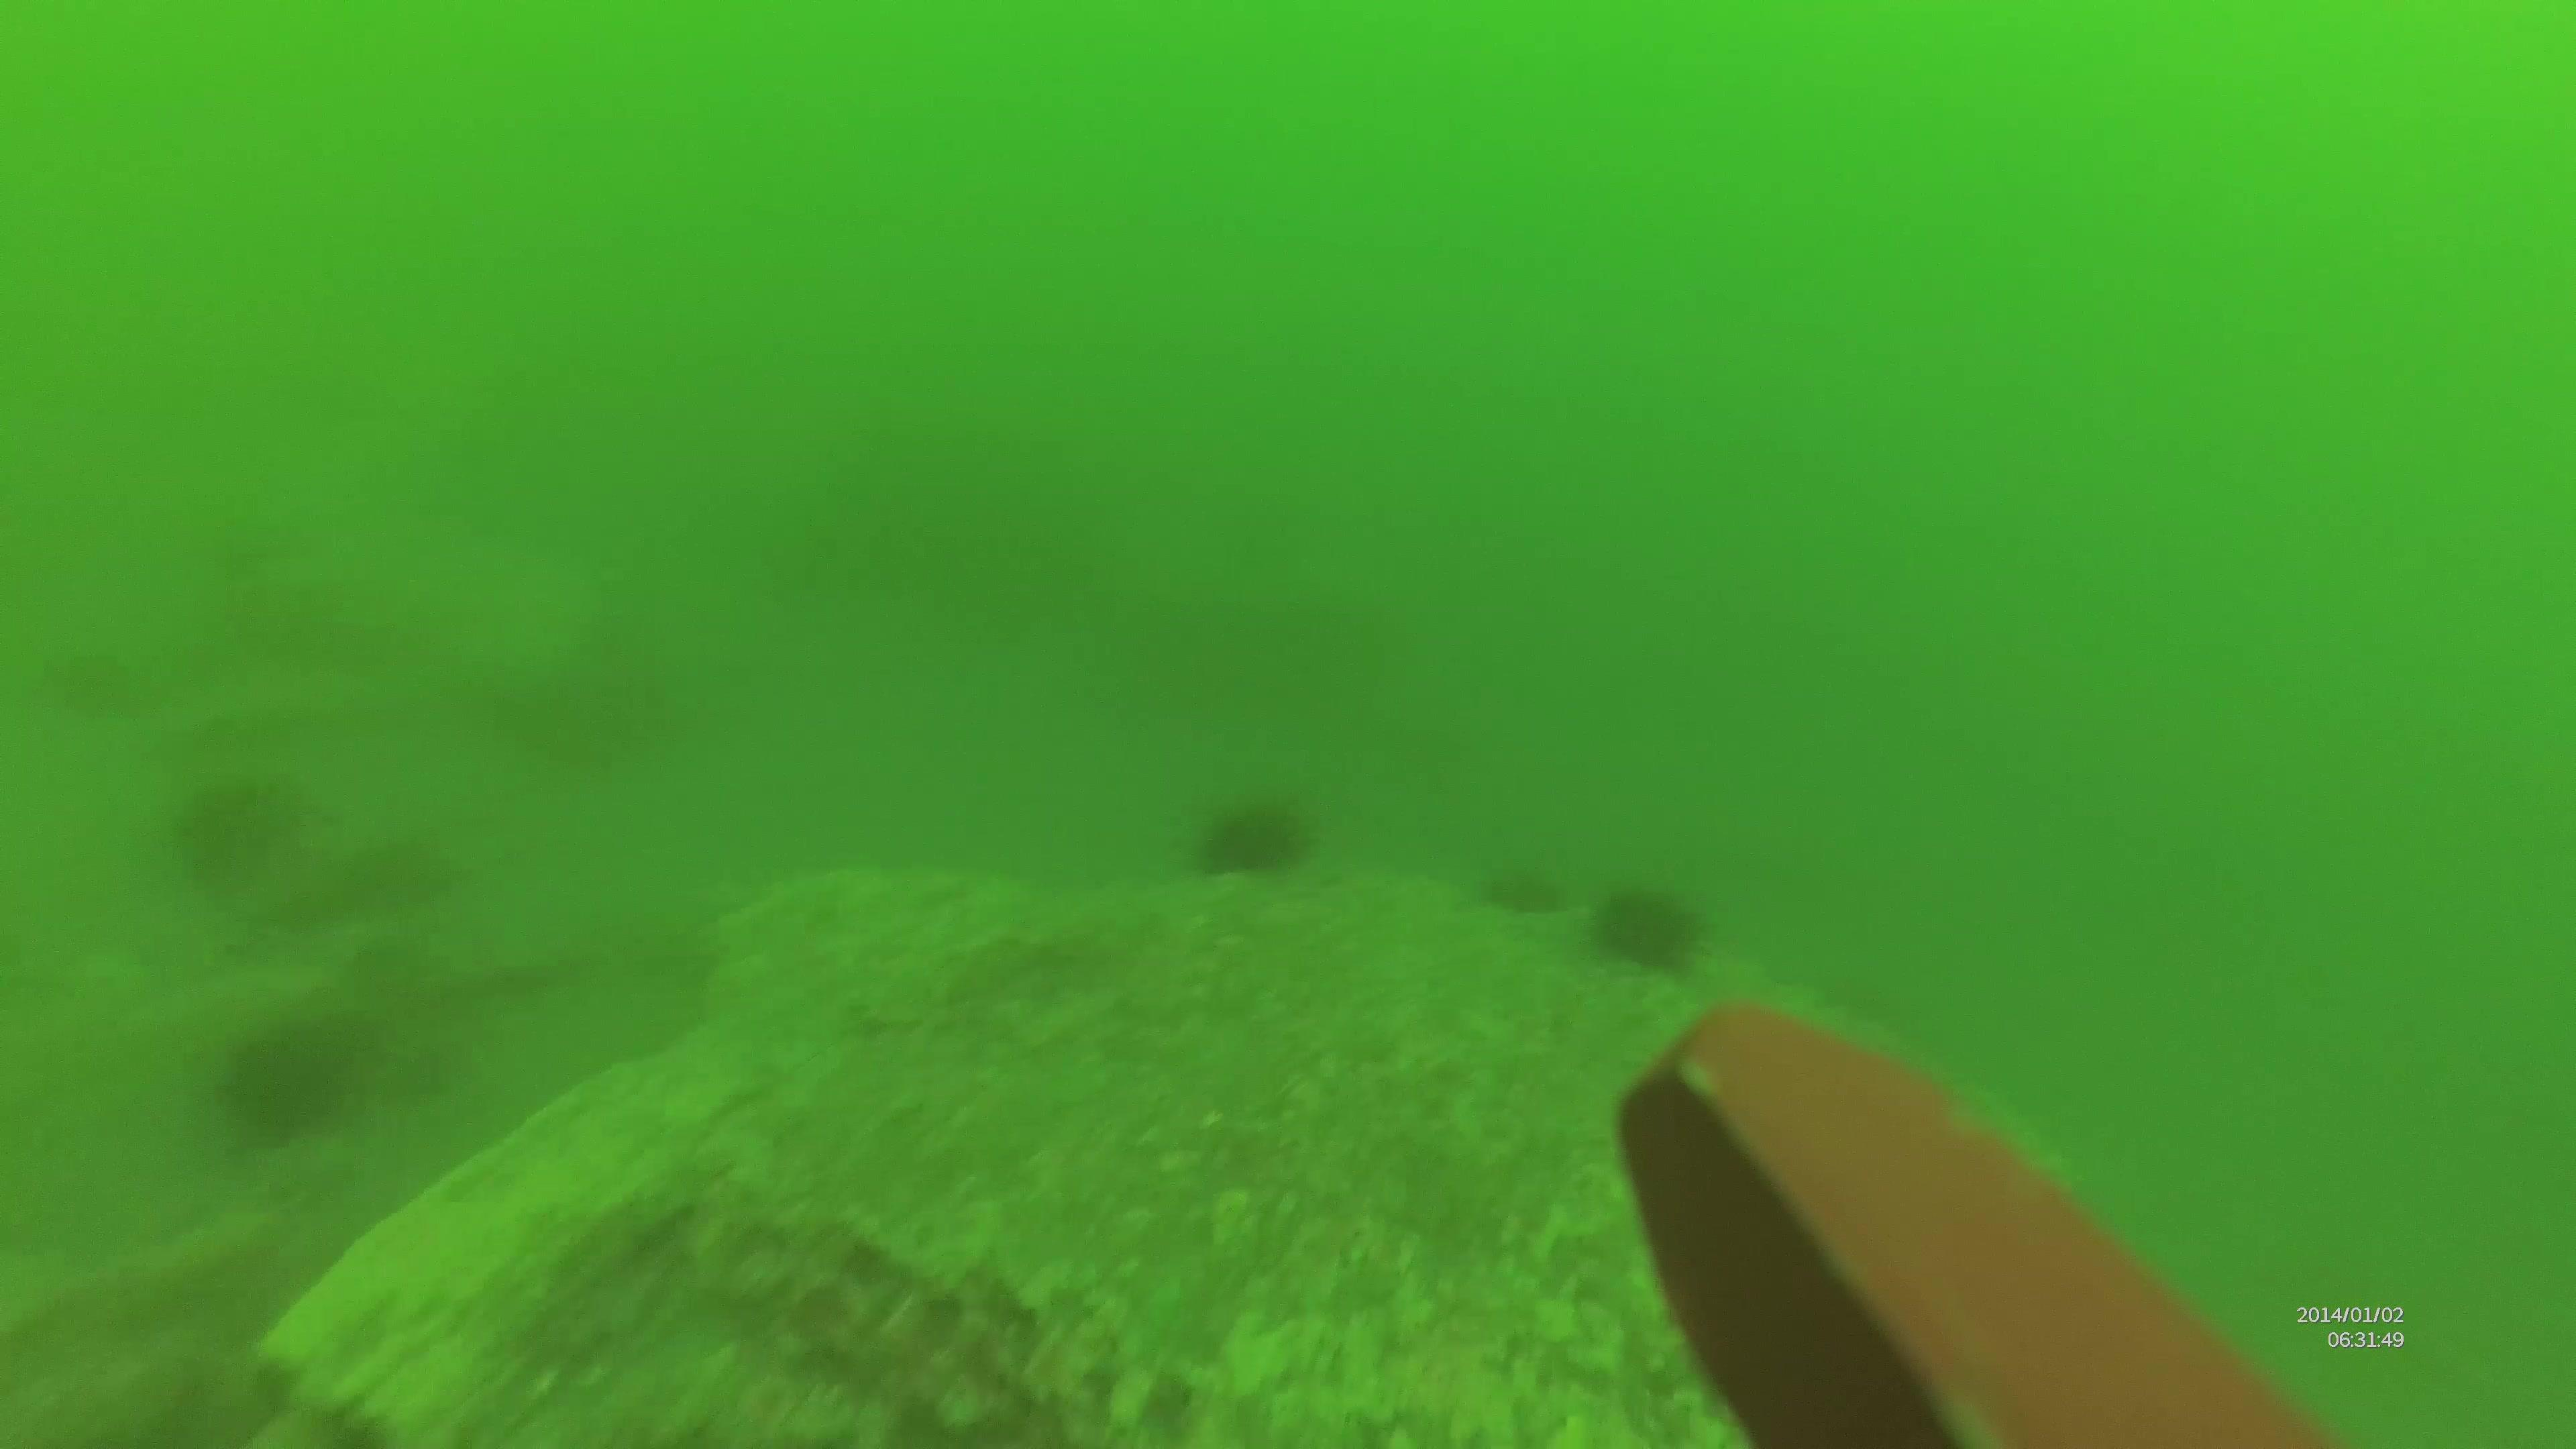echinus: (1196, 794, 1315, 901), (1591, 883, 1709, 977)
